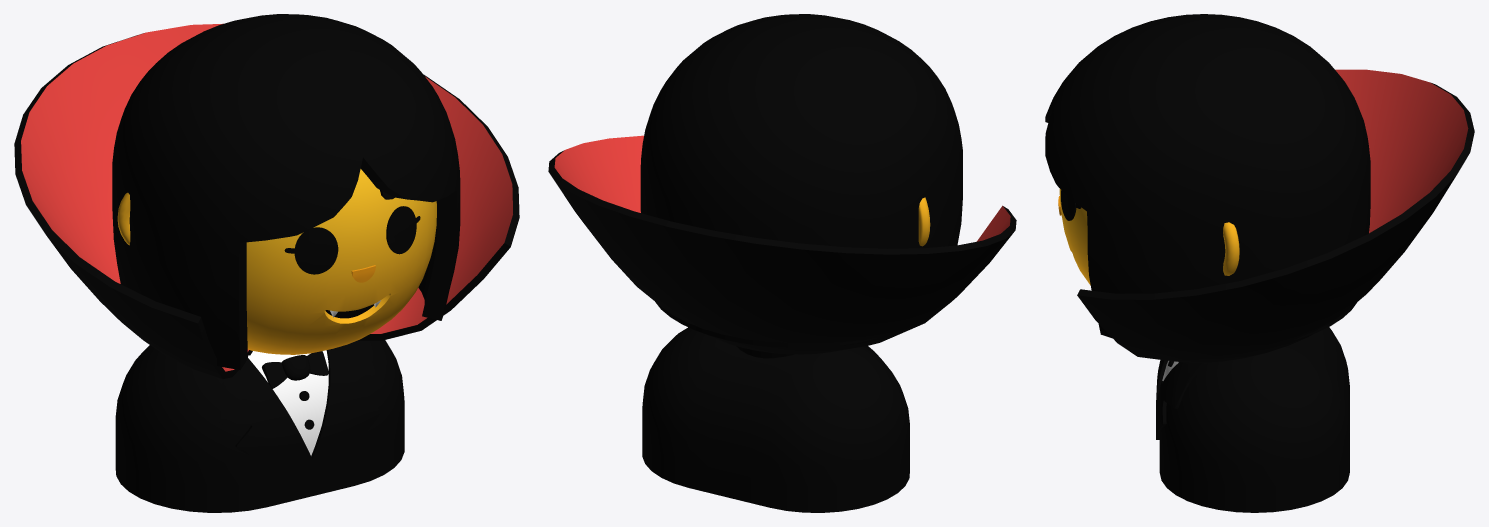
File: woman_vampire.glb
3 renders of one model, left to right at view 1: azimuth 30°, elevation 25°; view 2: azimuth 150°, elevation 25°; view 3: azimuth 270°, elevation 25°, orthographic. The views are drawn at different scales.
Visible parts, largest first — view 1: Roundcube.220, Circle.1040, Sphere.174, Roundcube.219, Circle.1037, Circle.1034, Circle.1038, Cube.2597; view 2: Roundcube.220, Circle.1040, Sphere.174; view 3: Roundcube.220, Circle.1040, Sphere.174, Circle.1037, Roundcube.219, Cylinder.187.
Part boxes in pixels (box(x1,y1,x2,y2)): Roundcube.220: box(112, 14, 460, 369); Circle.1040: box(14, 23, 519, 378); Sphere.174: box(115, 340, 404, 512); Roundcube.219: box(246, 169, 436, 354); Circle.1037: box(219, 341, 384, 481); Circle.1034: box(294, 206, 416, 274); Circle.1038: box(262, 351, 328, 388); Cube.2597: box(282, 355, 310, 380); Roundcube.220: box(640, 14, 962, 348); Circle.1040: box(548, 135, 1016, 358); Sphere.174: box(642, 327, 909, 512); Roundcube.220: box(1045, 14, 1370, 339); Circle.1040: box(1077, 69, 1474, 362); Sphere.174: box(1159, 327, 1349, 512); Circle.1037: box(1156, 360, 1207, 439); Roundcube.219: box(1059, 188, 1090, 285); Cylinder.187: box(1223, 222, 1239, 275).
Size of the model in its own units: 2.53 by 2.44 by 2.26.
2 materials, 2 textured.
